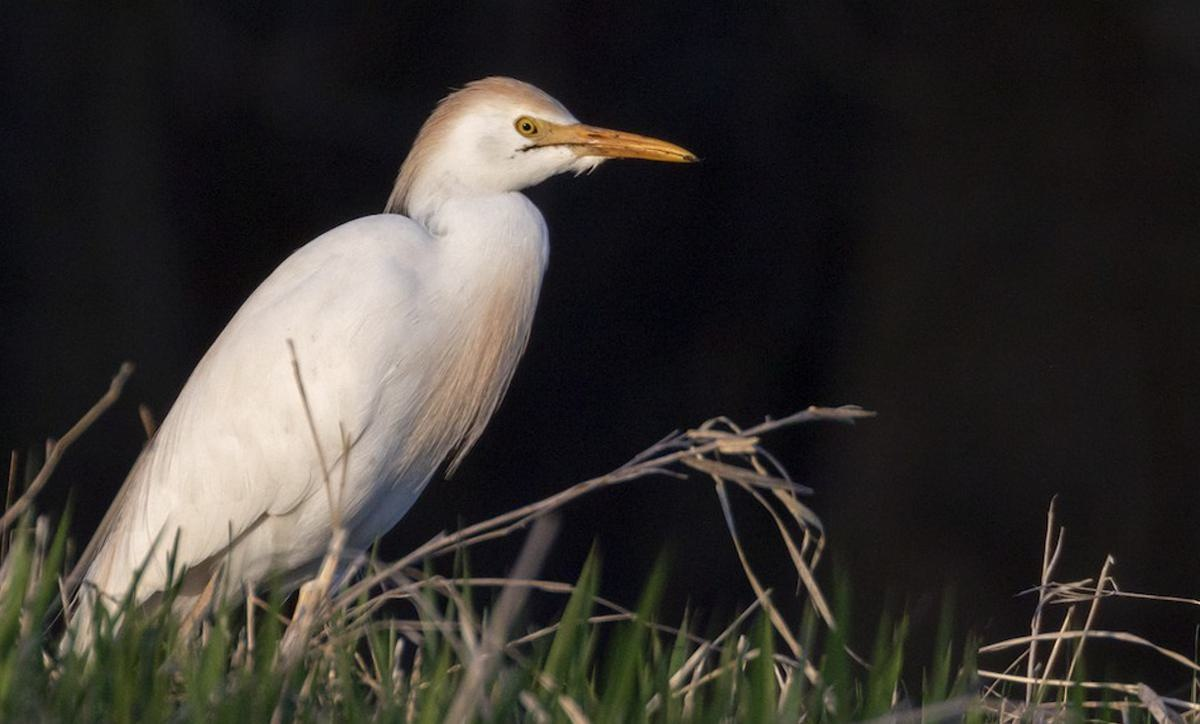egret: (65, 72, 706, 676)
